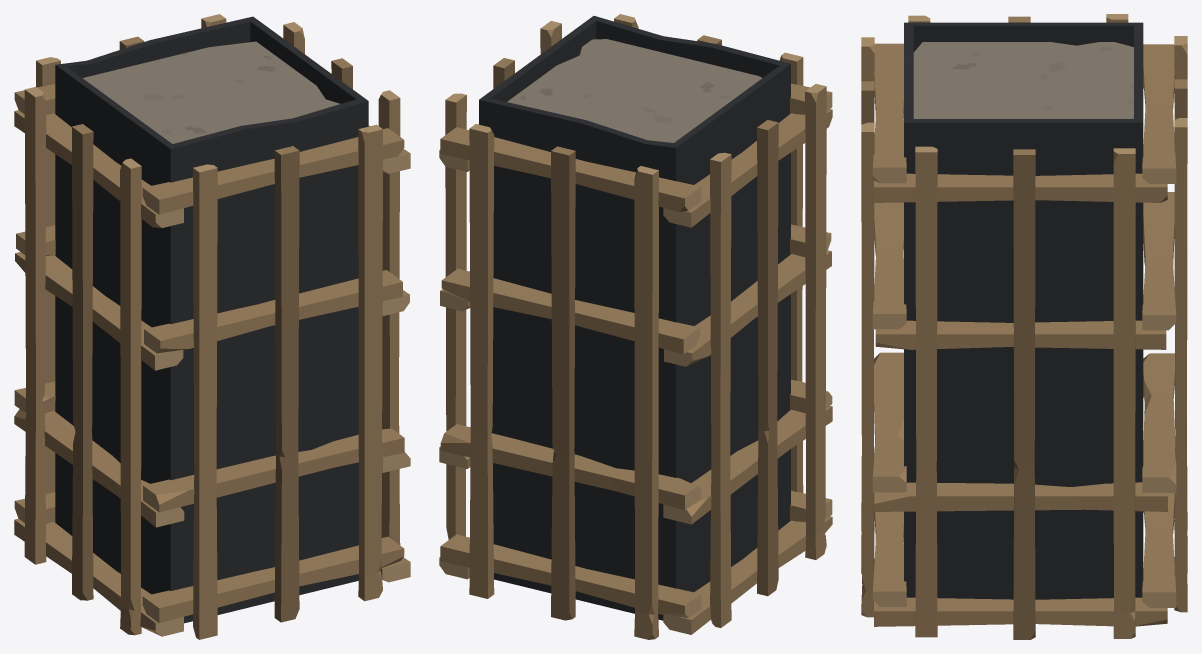
The model's file is SM_Bld_ConcreteFrame_Pillar_02.fbx.
3 views of the same model, side by side, from view 1: azimuth 30°, elevation 25°; view 2: azimuth 150°, elevation 25°; view 3: azimuth 270°, elevation 25° (orthographic). The views are drawn at different scales.
Parts seen in each view (by area): view 1: SM_Bld_ConcreteFrame_Pillar_02; view 2: SM_Bld_ConcreteFrame_Pillar_02; view 3: SM_Bld_ConcreteFrame_Pillar_02.
Boxes of the visible parts, x1,y1,x2,y2 form: SM_Bld_ConcreteFrame_Pillar_02: (14,14,410,639); SM_Bld_ConcreteFrame_Pillar_02: (439,14,832,639); SM_Bld_ConcreteFrame_Pillar_02: (861,14,1187,639).
Bounding box in the file's own units: 186 × 313 × 185.
